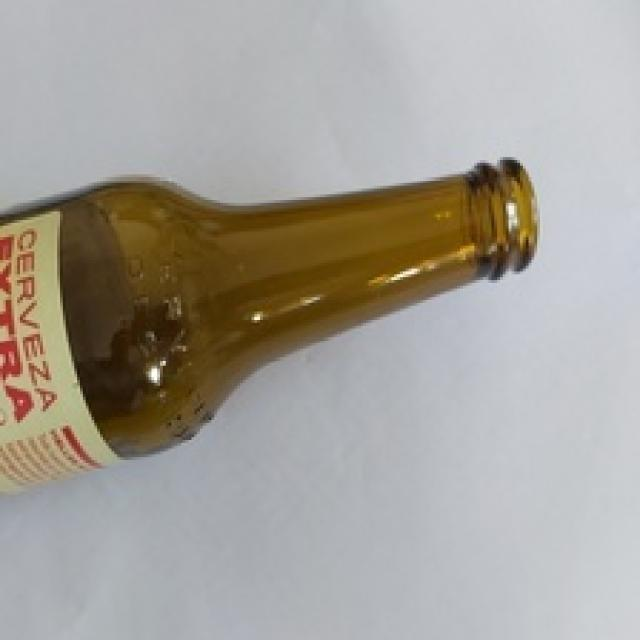Glass: (0, 155, 540, 498)
